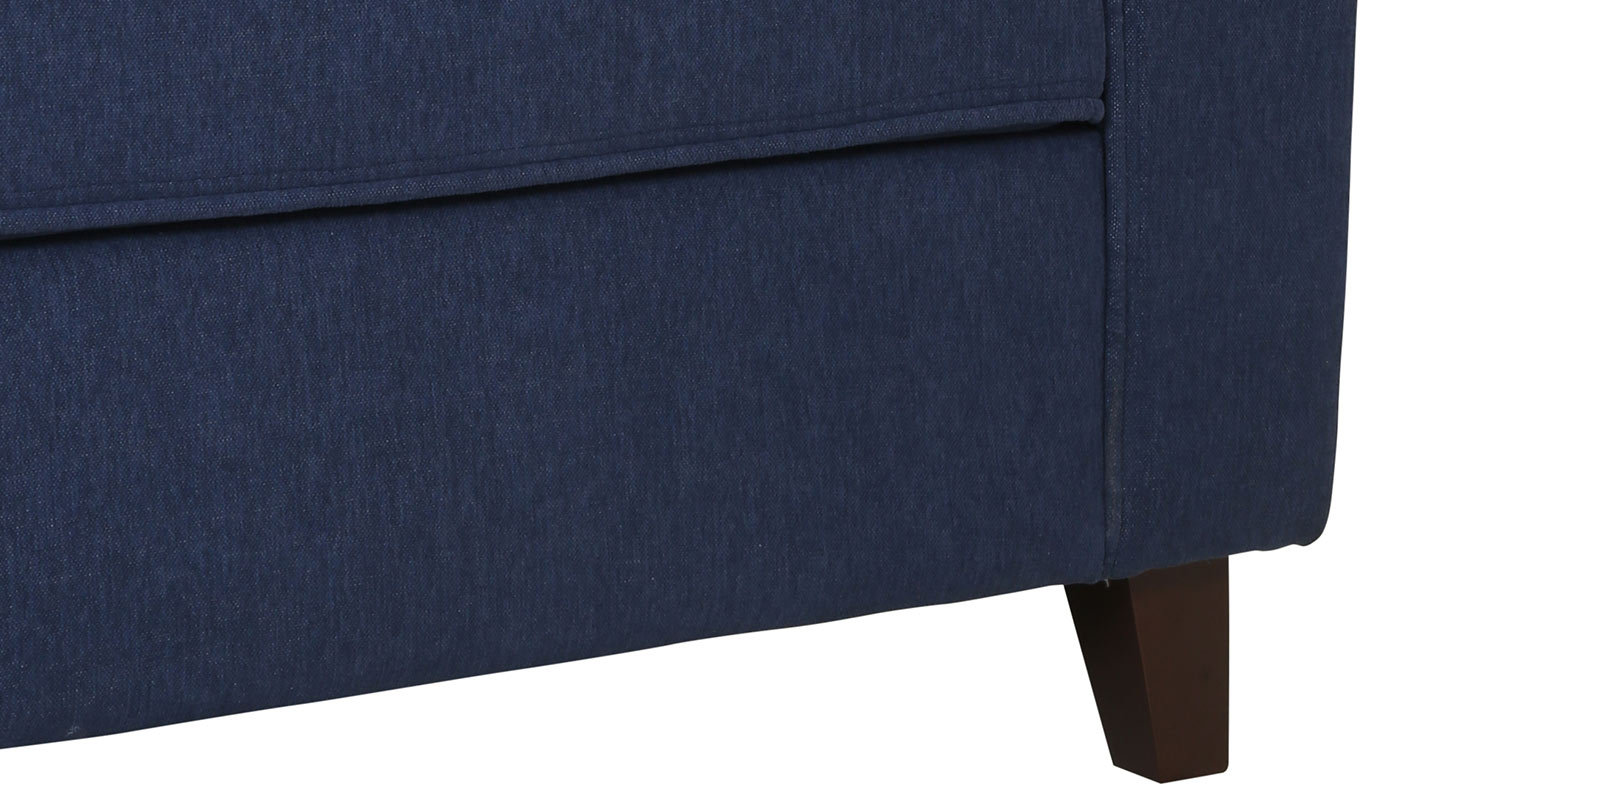Miranda Three Seater Sofa in Navy Blue Colour by CasaCraft: (1, 1, 1356, 780)
